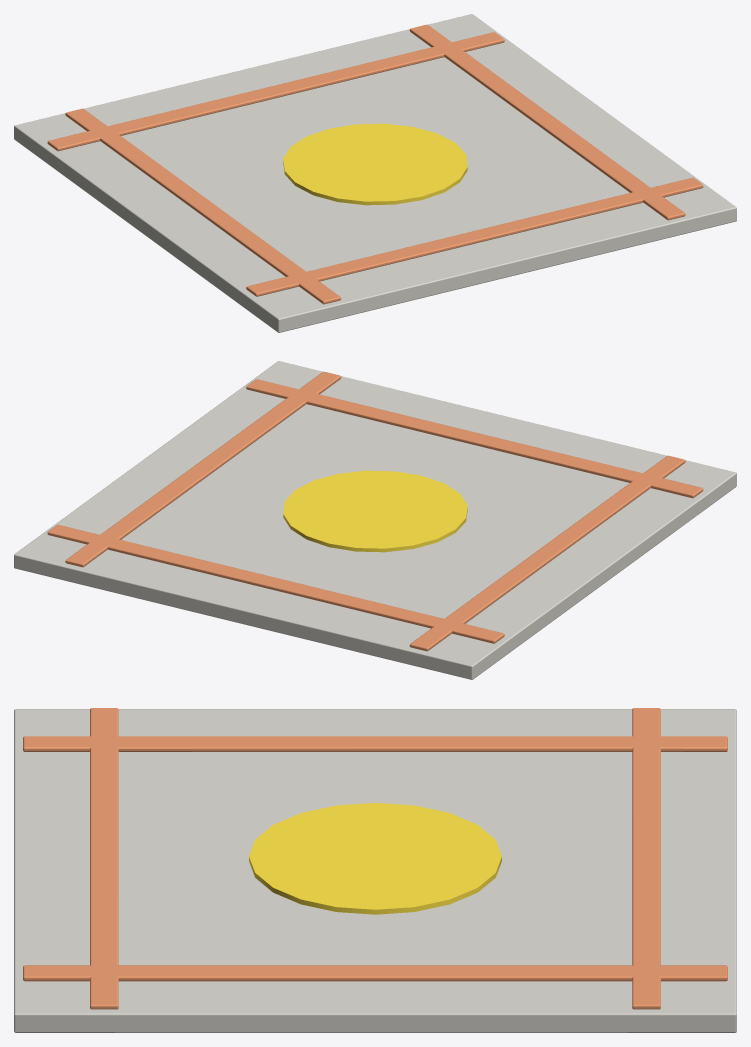
File: hero-shooter-harbour-payload-ground-tile-plaza-096d0e0d__27720.glb
3 views of the same model, one above another, from view 1: azimuth 30°, elevation 25°; view 2: azimuth 150°, elevation 25°; view 3: azimuth 270°, elevation 25° (orthographic). The views are drawn at different scales.
Visible parts, largest first — view 1: ground-tile-plaza; view 2: ground-tile-plaza; view 3: ground-tile-plaza.
Part boxes in pixels (x1,y1,x2,y2): ground-tile-plaza: [14, 14, 736, 332]; ground-tile-plaza: [14, 361, 736, 679]; ground-tile-plaza: [14, 708, 736, 1032].
Size of the model in its own units: 4 by 0.1501 by 4.
